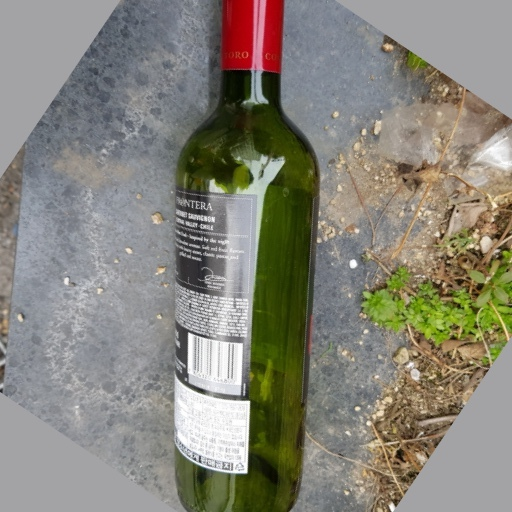Glass_2: (171, 6, 326, 512)
